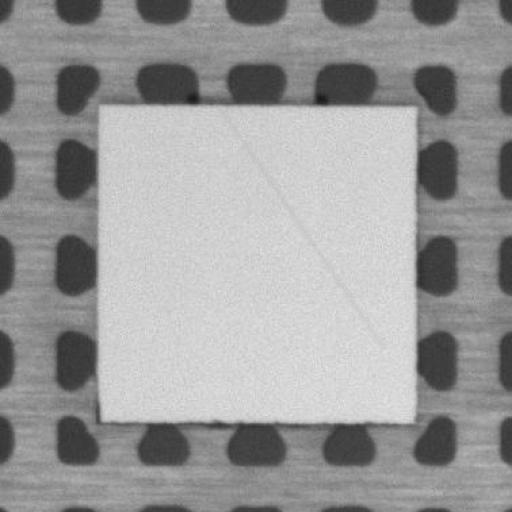DIE_CRACK: (220, 110, 381, 346)
